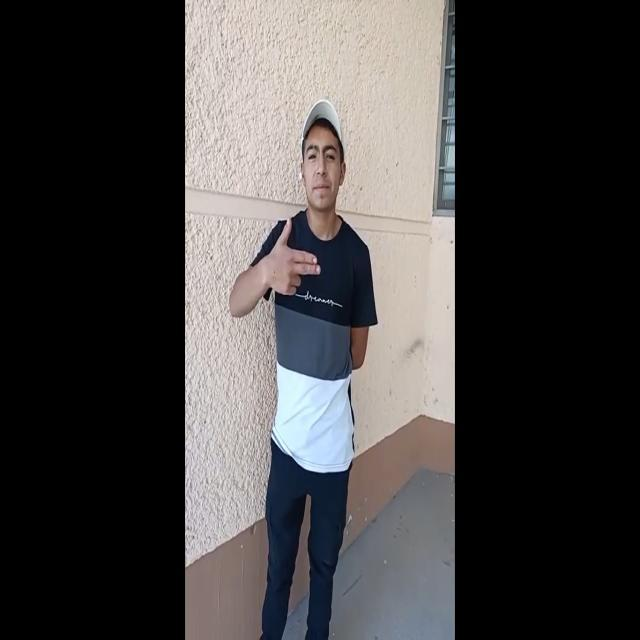H: (242, 212, 328, 324)
